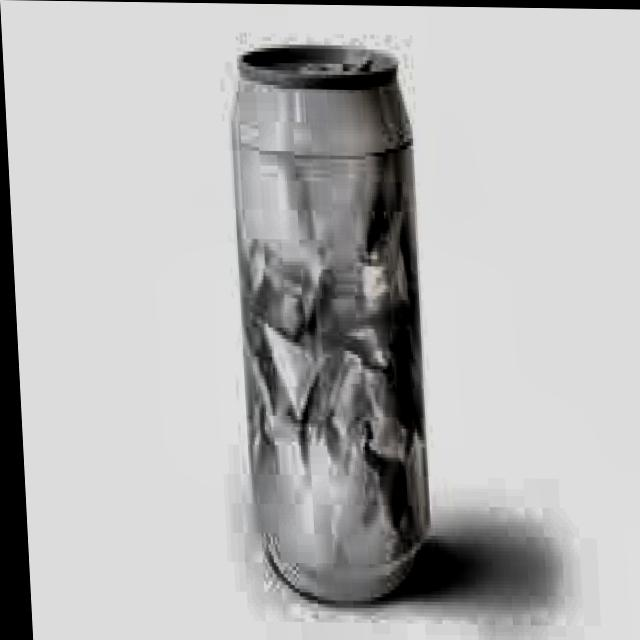can: (218, 31, 434, 615)
